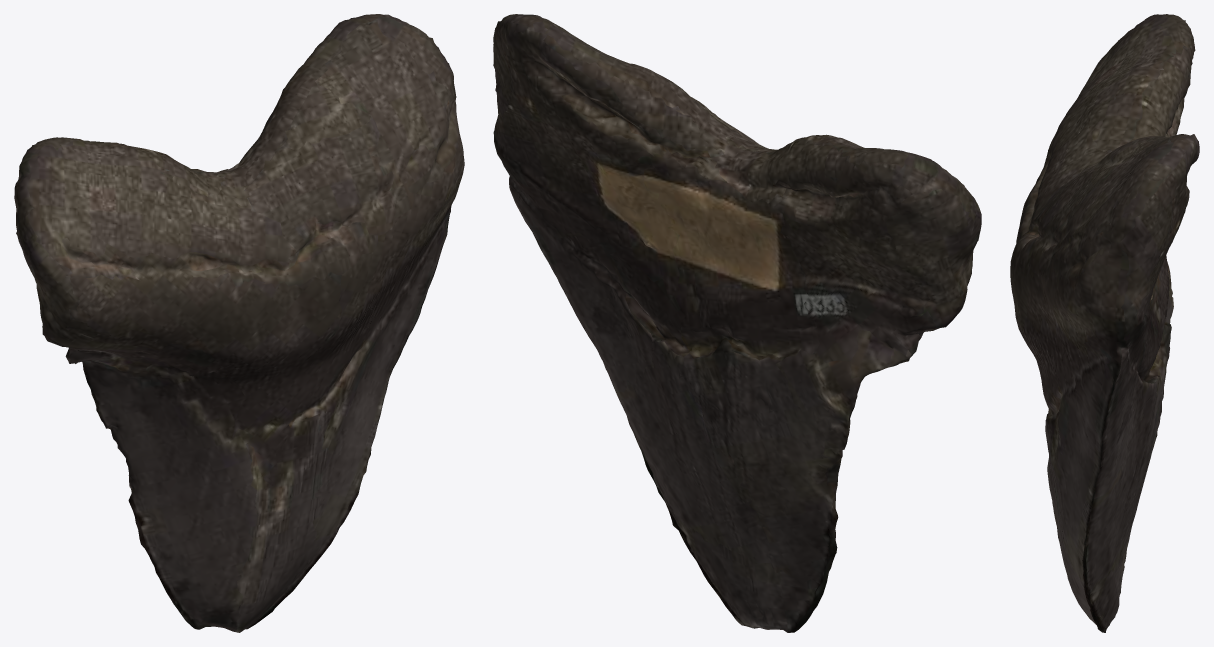
Rendered from megalodon.glb.
The picture shows the model from 3 angles, left to right: view 1: azimuth 30°, elevation 25°; view 2: azimuth 150°, elevation 25°; view 3: azimuth 270°, elevation 25°; orthographic projection. The views are drawn at different scales.
Visible parts, largest first — view 1: Smithsonian source orientation; view 2: Smithsonian source orientation; view 3: Smithsonian source orientation.
Part boxes in pixels (<box>): Smithsonian source orientation: <box>14,14,464,632</box>; Smithsonian source orientation: <box>493,14,981,632</box>; Smithsonian source orientation: <box>1010,14,1199,632</box>.
Bounding box in the file's own units: 0.1222 × 0.1452 × 0.0435.
1 material, 1 textured.
